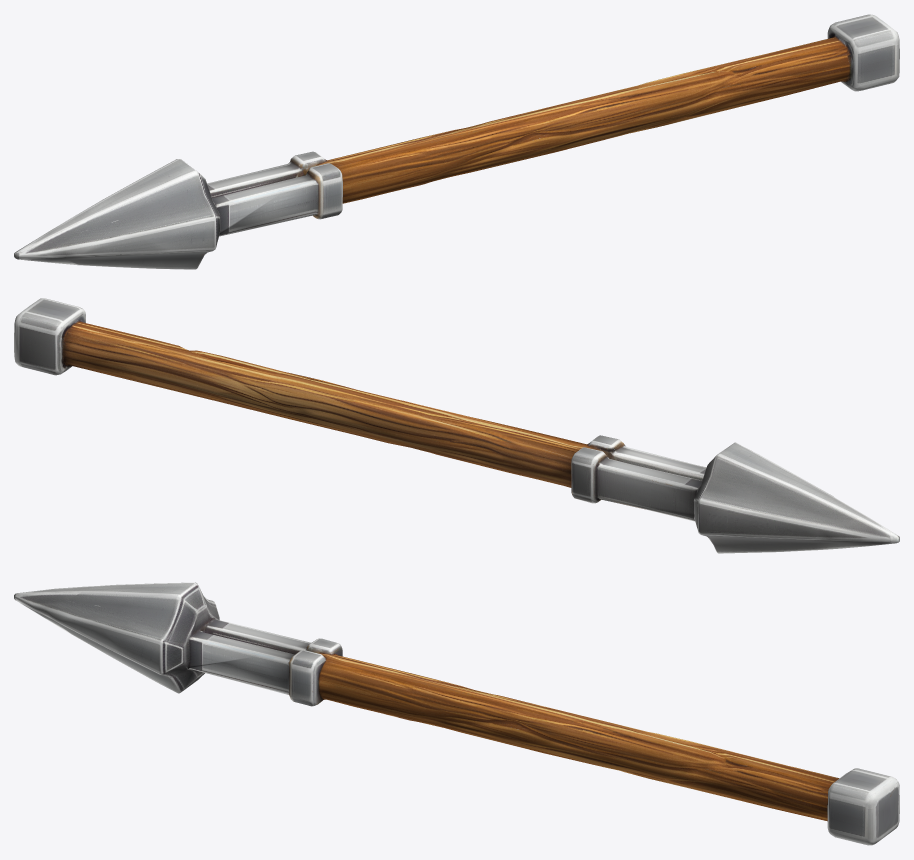
Rendered from SM_CR_BallistaArrow.fbx.
3 renders of one model, top to bottom at view 1: azimuth 30°, elevation 25°; view 2: azimuth 150°, elevation 25°; view 3: azimuth 330°, elevation 25°, orthographic.
Visible parts, largest first — view 1: Mesh1.0; view 2: Mesh1.0; view 3: Mesh1.0.
Boxes of the visible parts, x1,y1,x2,y2 form: Mesh1.0: (14,14,899,269); Mesh1.0: (14,298,899,553); Mesh1.0: (14,582,899,845).
Bounding box in the file's own units: 191 × 20.68 × 20.69.
1 material, 1 textured.
